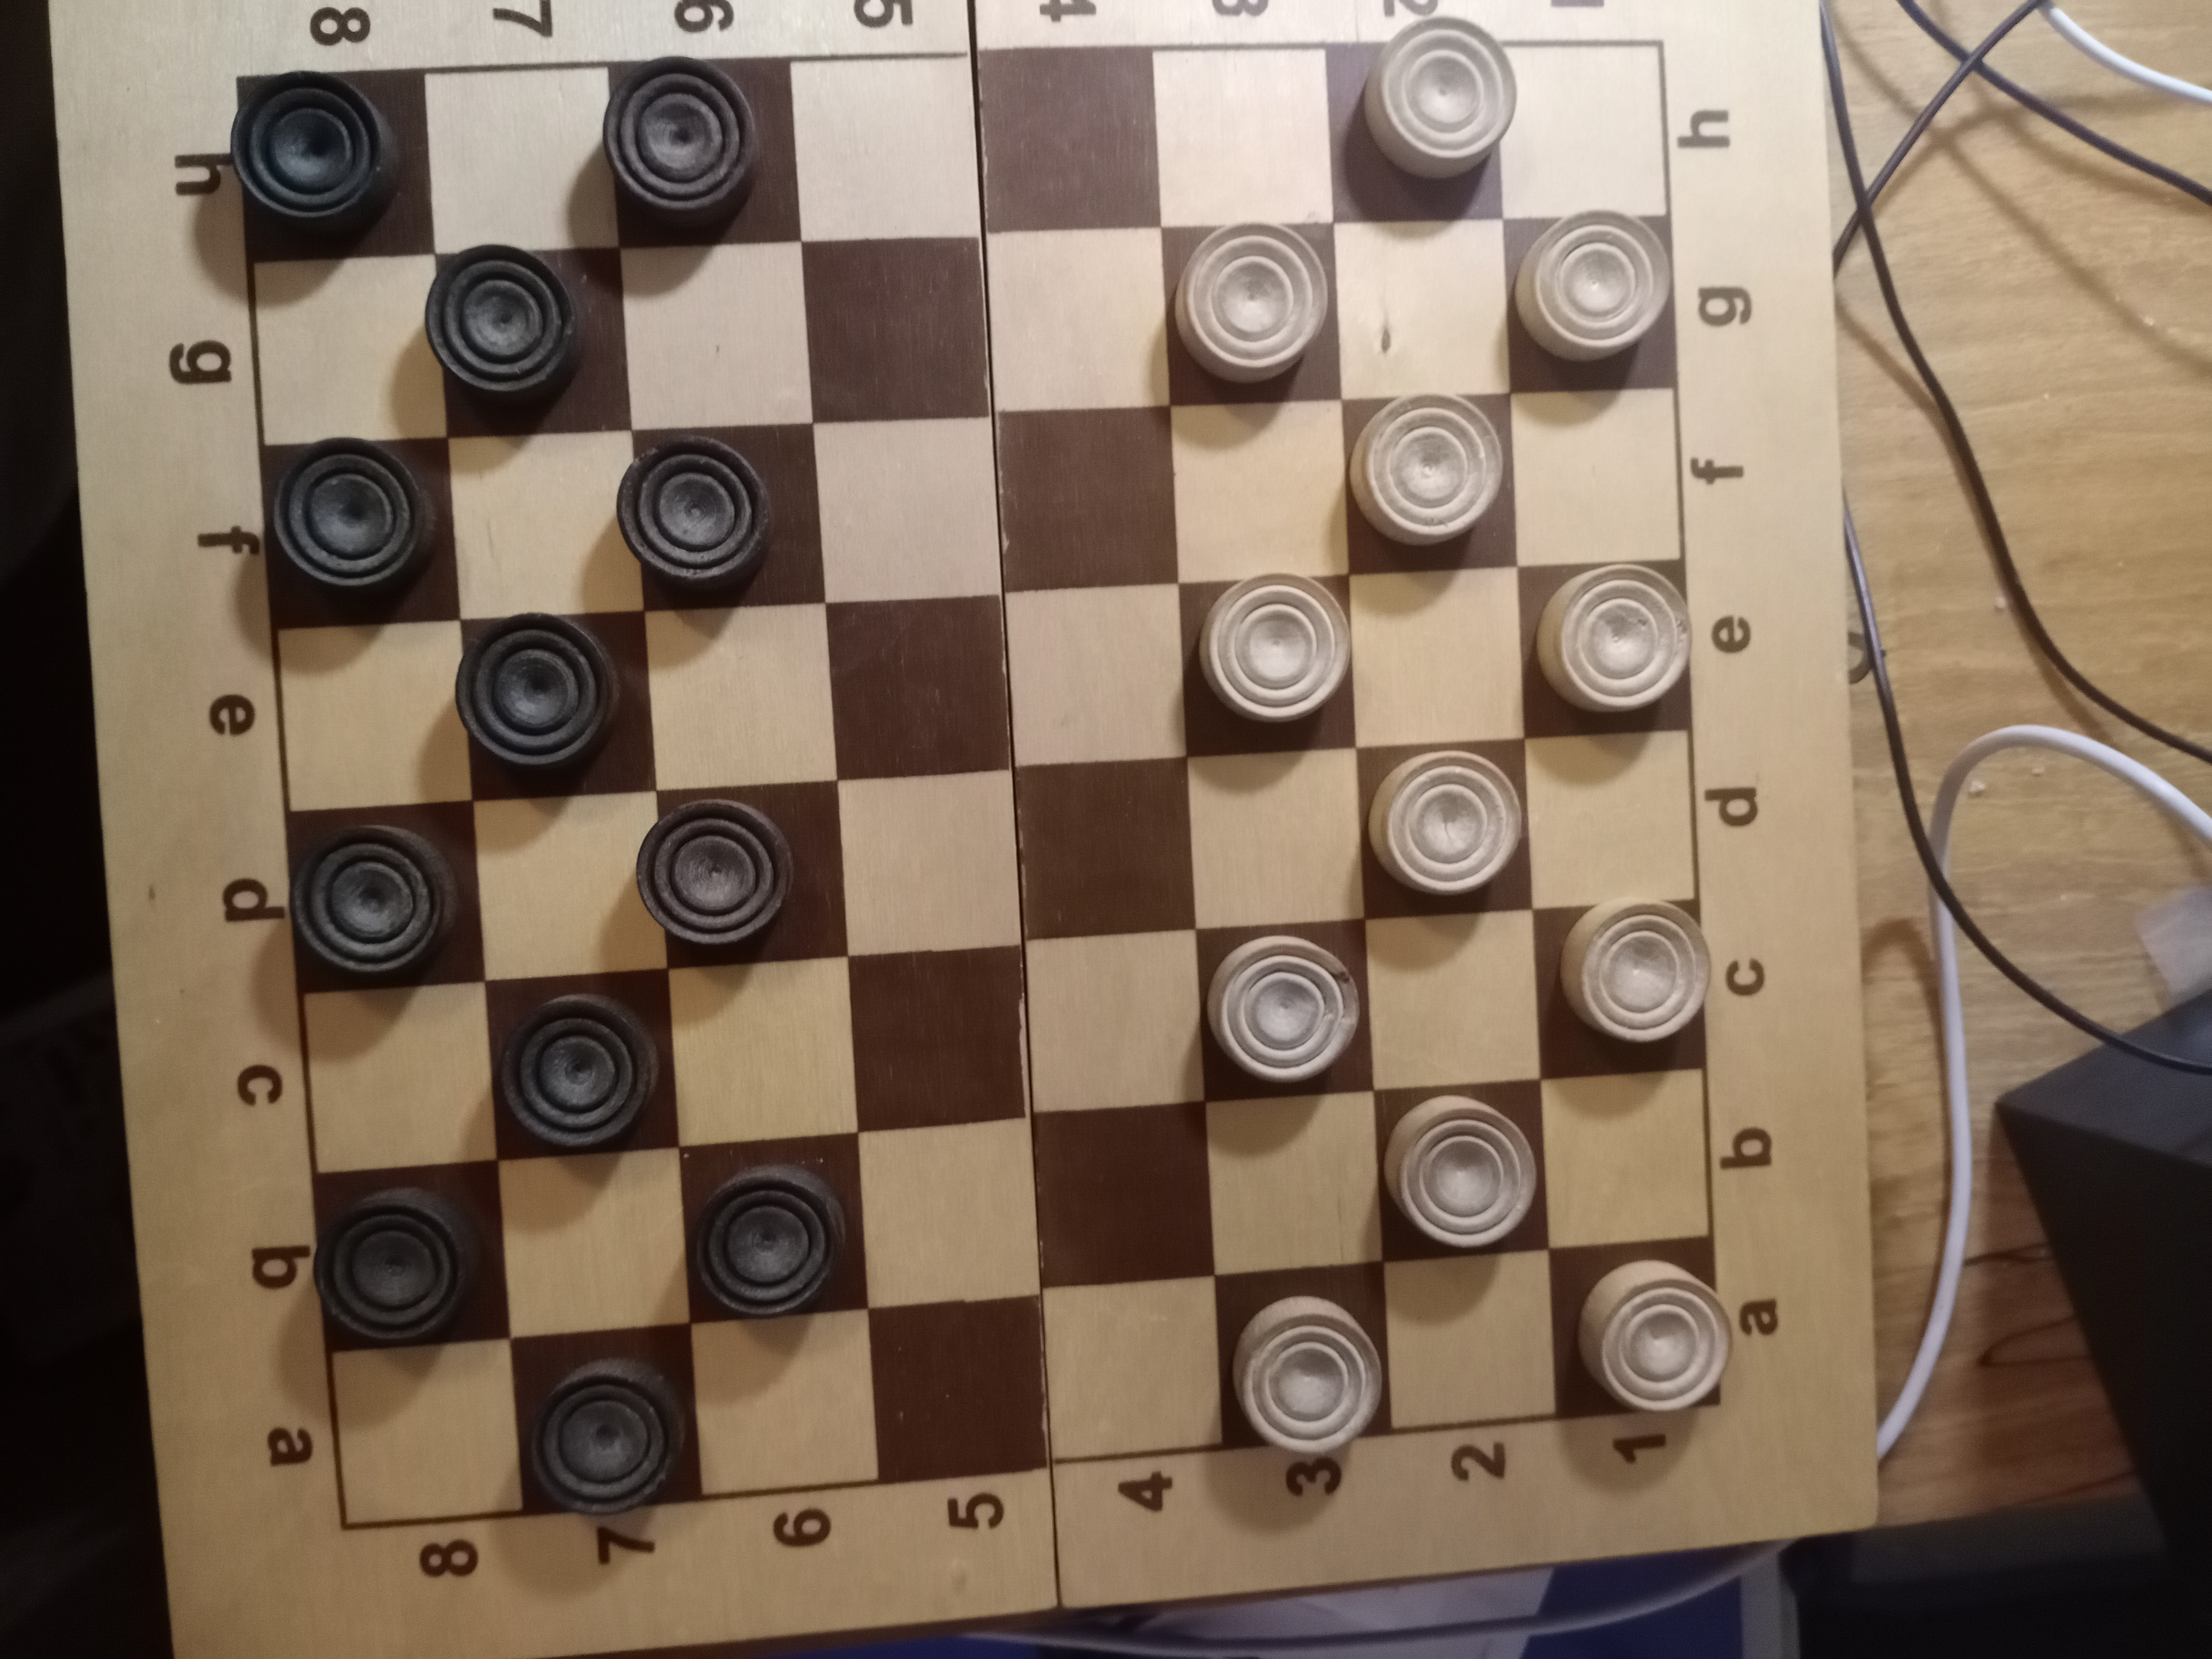White_Draught: (1324, 17, 1517, 225), (1212, 1263, 1392, 1455), (1547, 1237, 1733, 1420), (1160, 220, 1343, 406), (1195, 920, 1374, 1103), (1179, 573, 1357, 758), (1501, 209, 1679, 394), (1533, 897, 1712, 1079), (1341, 390, 1519, 573), (1357, 739, 1534, 920), (1374, 1079, 1548, 1262), (1517, 561, 1693, 739)
